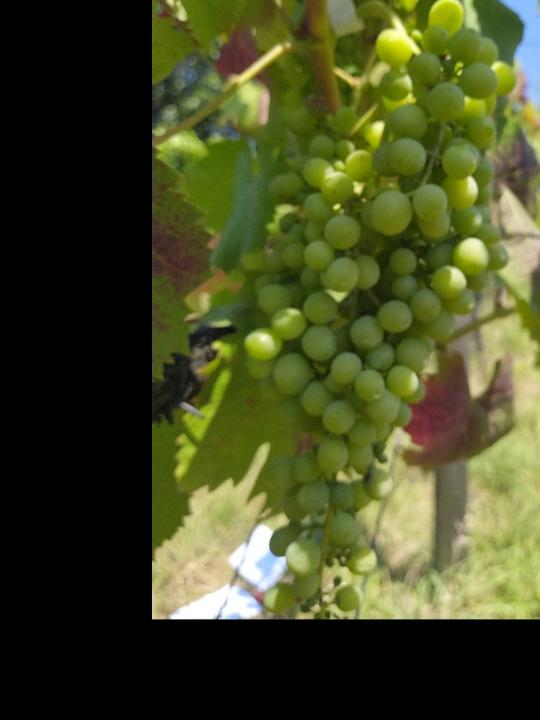grape: (241, 0, 521, 616)
